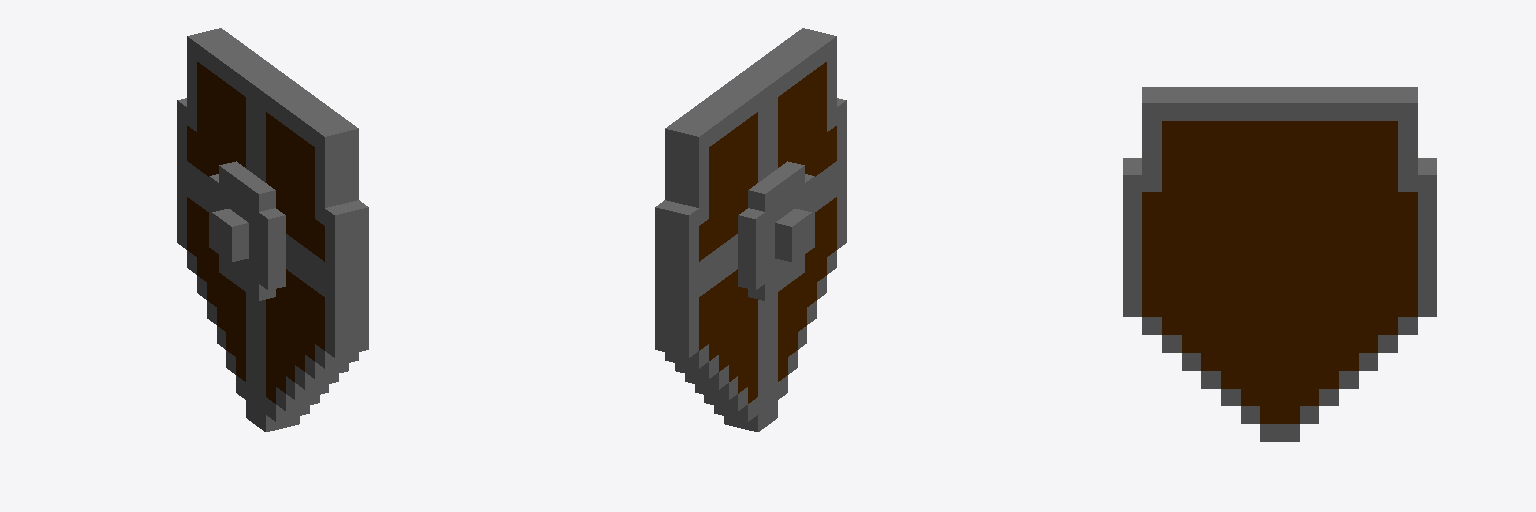
3 renders of one model, left to right at view 1: azimuth 30°, elevation 25°; view 2: azimuth 150°, elevation 25°; view 3: azimuth 270°, elevation 25°, orthographic.
Parts seen in each view (by area): view 1: object 1; view 2: object 1; view 3: object 1.
Part boxes in pixels (x1,y1,x2,y2): object 1: (177, 28, 368, 431); object 1: (655, 28, 846, 431); object 1: (1123, 87, 1436, 441).
Size of the model in its own units: 0.4 by 1.9 by 1.6.
Materials: 1 (1 with a texture image).